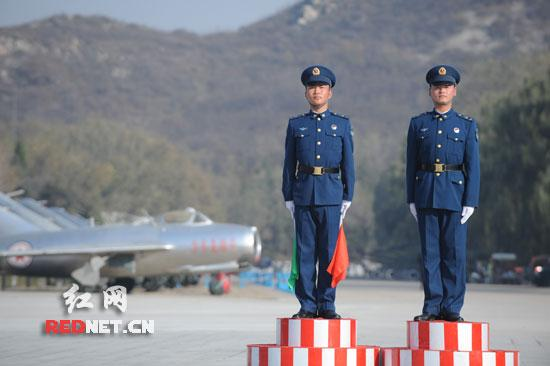up: (268, 63, 361, 313), (395, 60, 481, 322)
